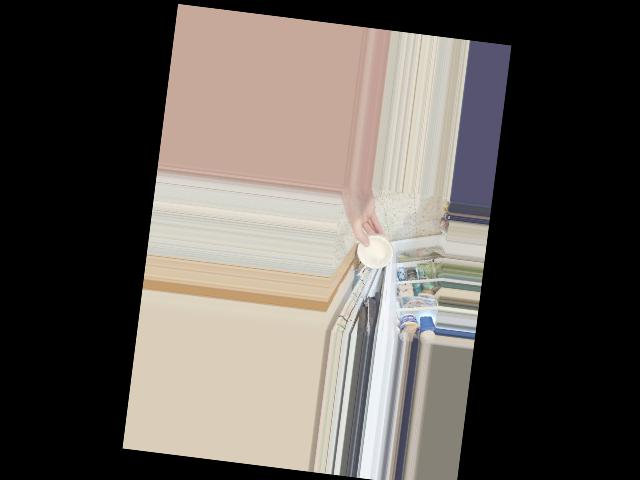cotage: (356, 233, 395, 273)
